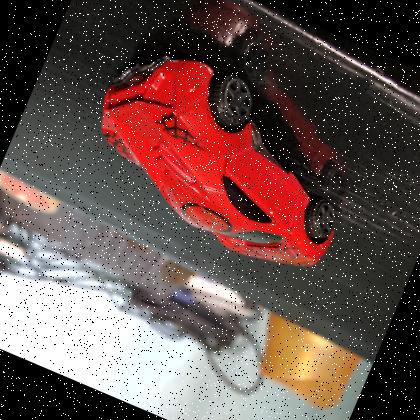Car: (58, 24, 384, 295)
